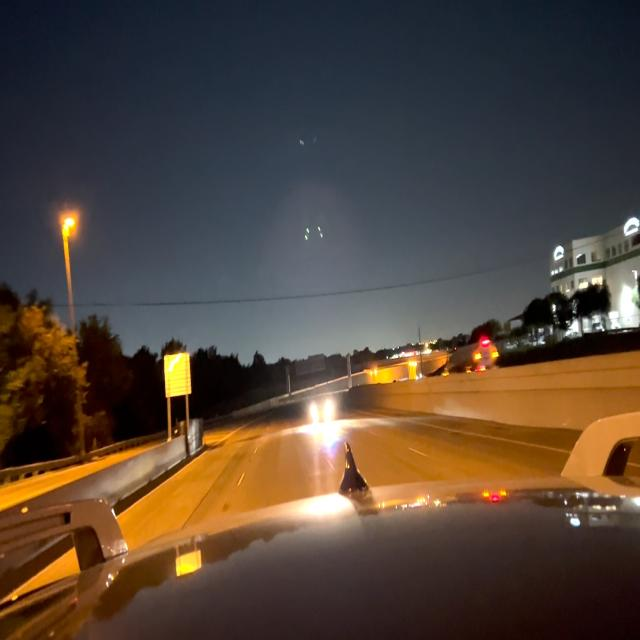back-of-sign: (163, 349, 193, 401)
